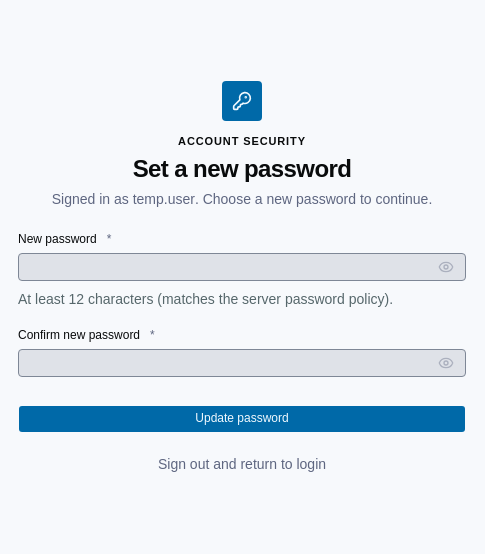
Scenario: ChangePasswordPage › surfaces a validation error when the two passwords do not match
In the password field labelled "New password *": {"x": 242, "y": 267} left=18, top=253, right=466, bottom=281, type "longenough123"
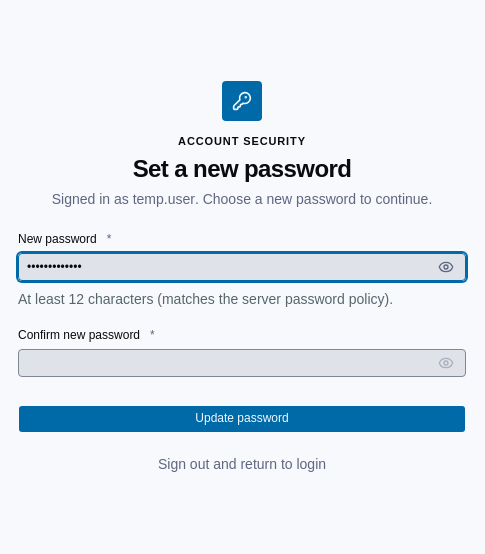
In the password field labelled "Confirm new password *": {"x": 242, "y": 363} left=18, top=349, right=466, bottom=377, type "different456"
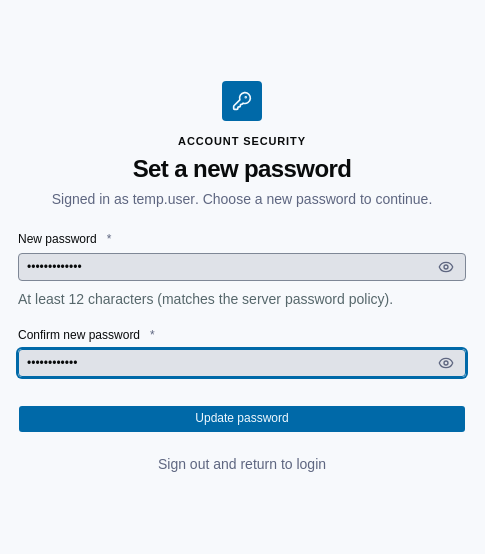
Click the button "Update password": {"x": 242, "y": 419} left=18, top=405, right=466, bottom=433
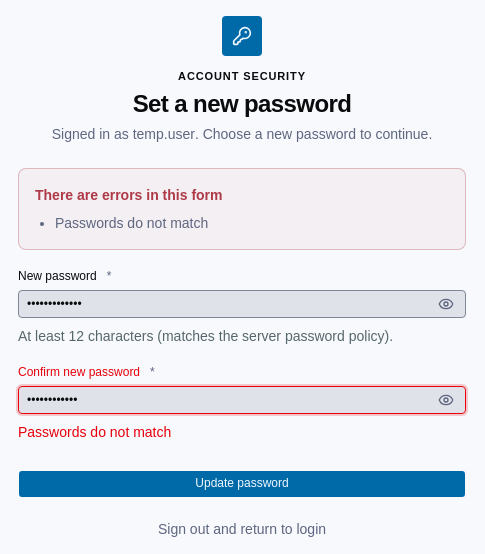
Check: the message shows "Passwords do not match", box left=55, top=215, right=208, bottom=231
Check: the message shows "errors in this form", box left=35, top=187, right=222, bottom=203
